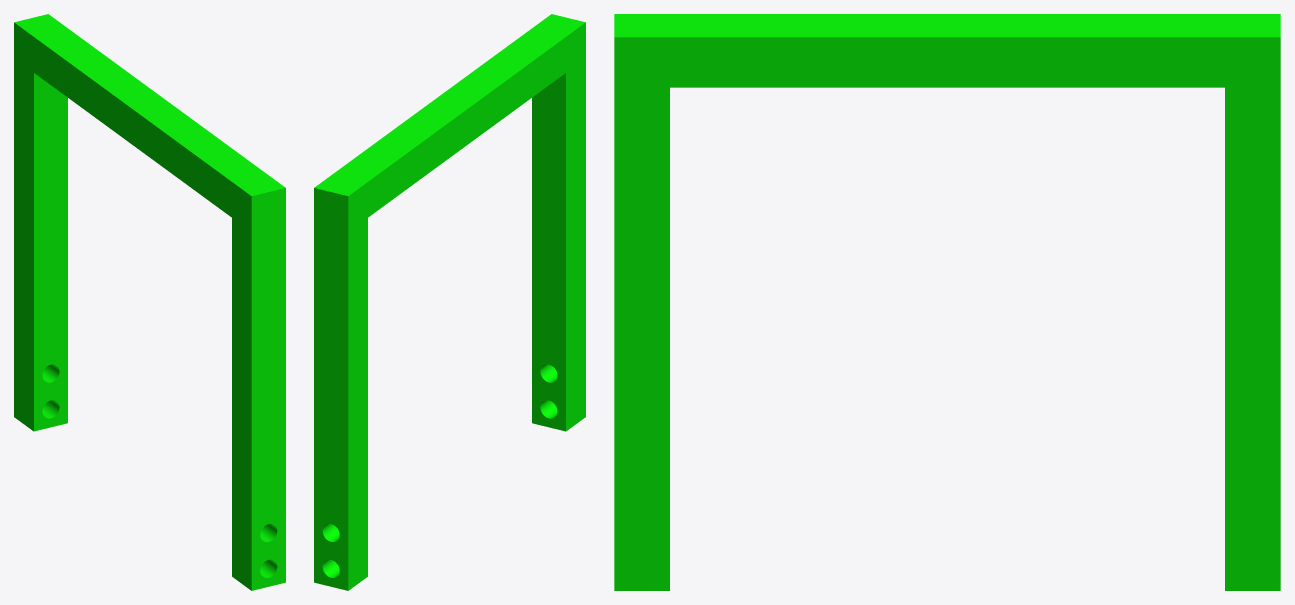
File: frame.obj
3 renders of one model, left to right at view 1: azimuth 30°, elevation 25°; view 2: azimuth 150°, elevation 25°; view 3: azimuth 270°, elevation 25°, orthographic. The views are drawn at different scales.
Parts seen in each view (by area): view 1: Root|#4Frame_(Default)|Default|color; view 2: Root|#4Frame_(Default)|Default|color; view 3: Root|#4Frame_(Default)|Default|color.
Boxes of the visible parts, x1=… form: Root|#4Frame_(Default)|Default|color: x1=14, y1=14, x2=285, y2=590; Root|#4Frame_(Default)|Default|color: x1=314, y1=14, x2=585, y2=590; Root|#4Frame_(Default)|Default|color: x1=614, y1=14, x2=1280, y2=590.
Size of the model in its own units: 0.01 by 0.11 by 0.12.
